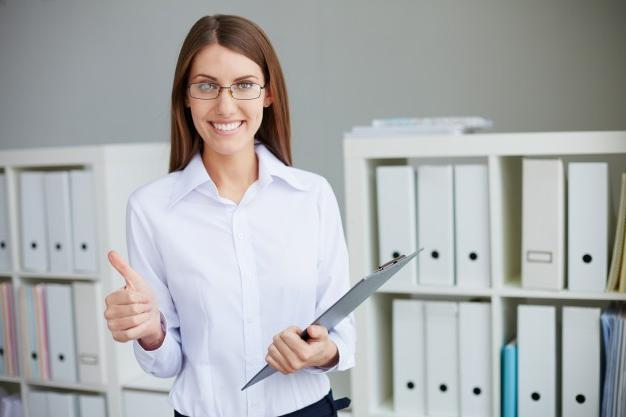thumbsup: (103, 250, 152, 344)
